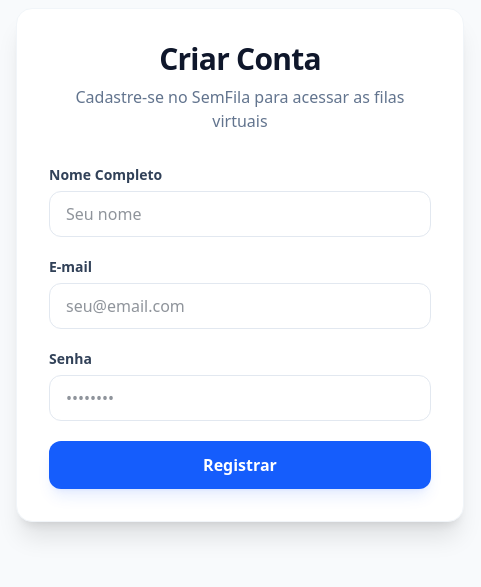
it: Registro — página › exibe mensagem de sucesso após registro
The image size is (481, 587).
Type "Pedro" into the field with placeholder "Seu nome" at (240, 214), box [49, 191, 431, 237]
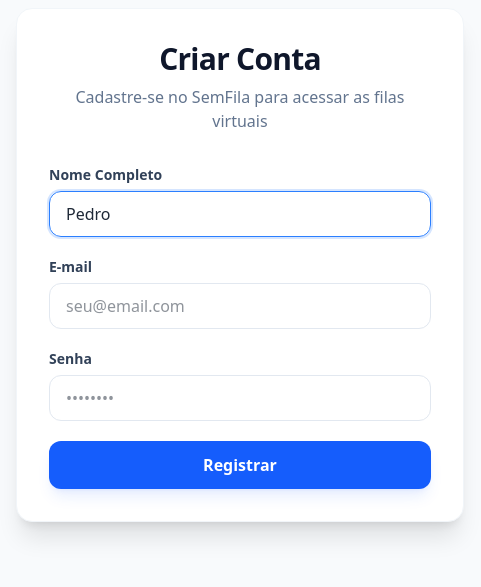
Type "pedro@test.com" into the field with placeholder "seu@email.com" at (240, 306), box [49, 283, 431, 329]
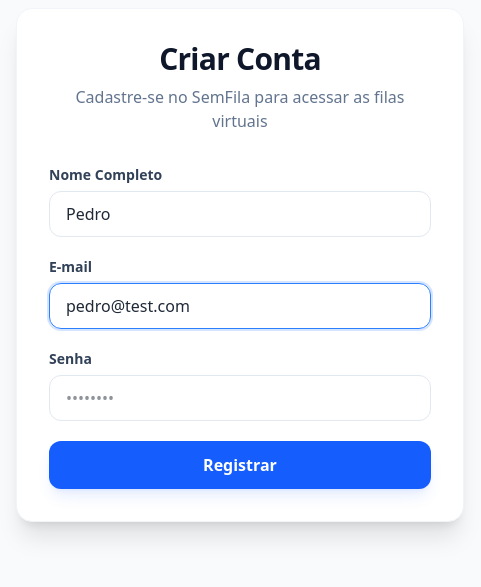
Type "senha456" into the password field with placeholder "••••••••" at (240, 398), box [49, 375, 431, 421]
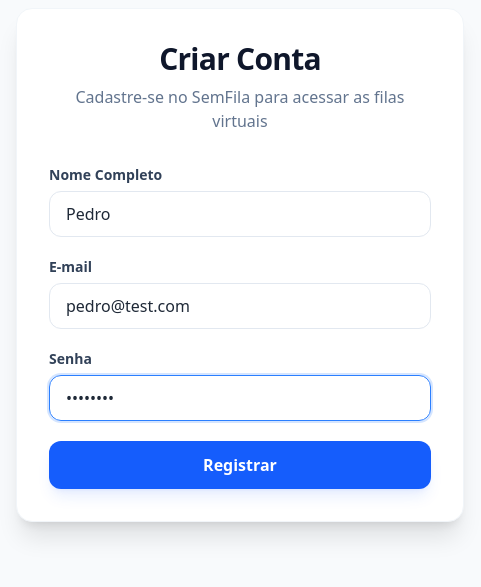
Click the button "Registrar" at (240, 465), box [49, 441, 431, 489]
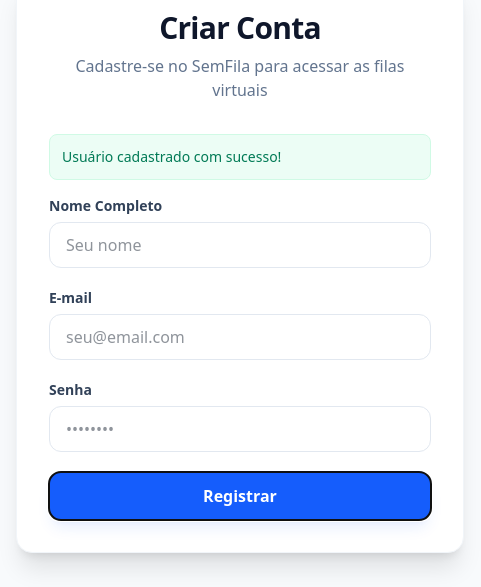
Expected: the text "Usuário cadastrado com sucesso!" is shown, [49, 134, 431, 180]
